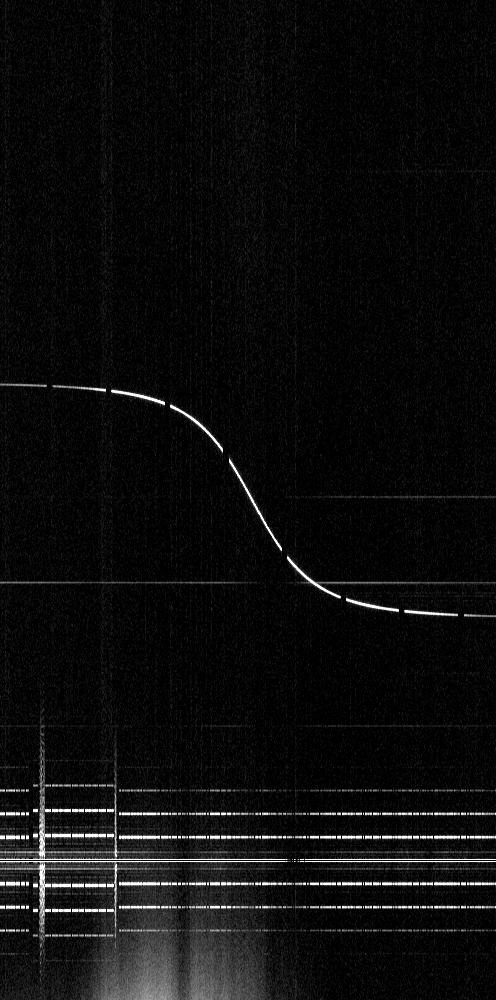signal: (0, 0, 495, 999)
